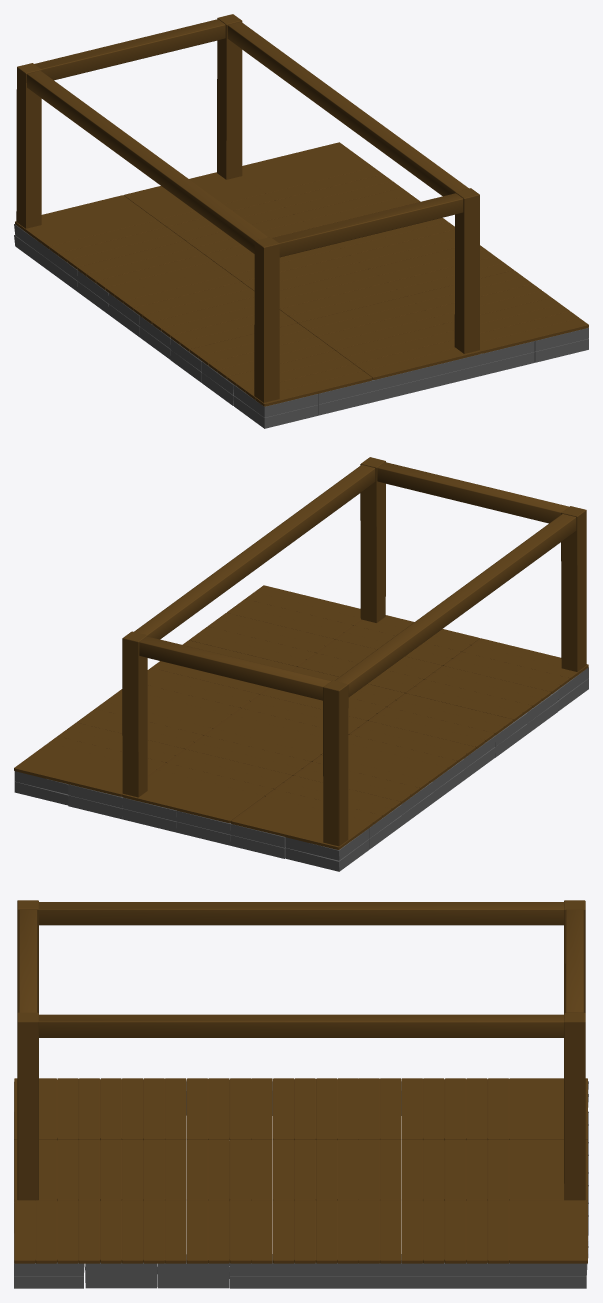
Rendered from SM_SawMill_Construction.fbx.
3 renders of one model, top to bottom at view 1: azimuth 30°, elevation 25°; view 2: azimuth 150°, elevation 25°; view 3: azimuth 270°, elevation 25°, orthographic. The views are drawn at different scales.
Parts seen in each view (by area): view 1: SM_SawMill_Construction; view 2: SM_SawMill_Construction; view 3: SM_SawMill_Construction.
Boxes of the visible parts, x1,y1,x2,y2 form: SM_SawMill_Construction: (14,14,588,428); SM_SawMill_Construction: (14,457,588,871); SM_SawMill_Construction: (14,900,588,1288).
Size of what is drawn, in the model's own units: 601 by 801 by 318.
